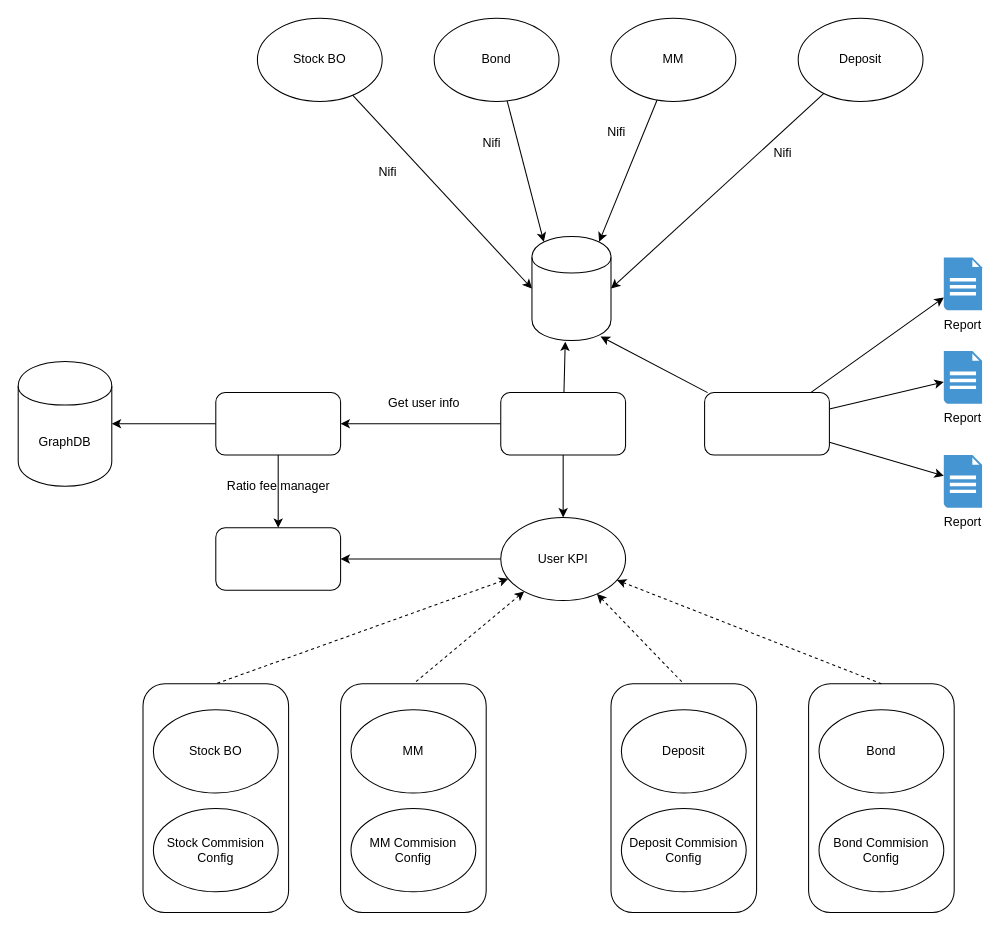
The diagram is 1000 pixels wide and 931 high, and some of its shapes have lost their labels. The shapes that lost their labels are listed below. From the top down, each one's centre as x and y in pixels, then its label:
At [571,288]: "Postgre".
At [278,423]: "Sale-Structure Service".
At [563,423]: "KPI calculation Service".
At [766,423]: "Reporting Service".
At [278,558]: "Fee Manager Service".
